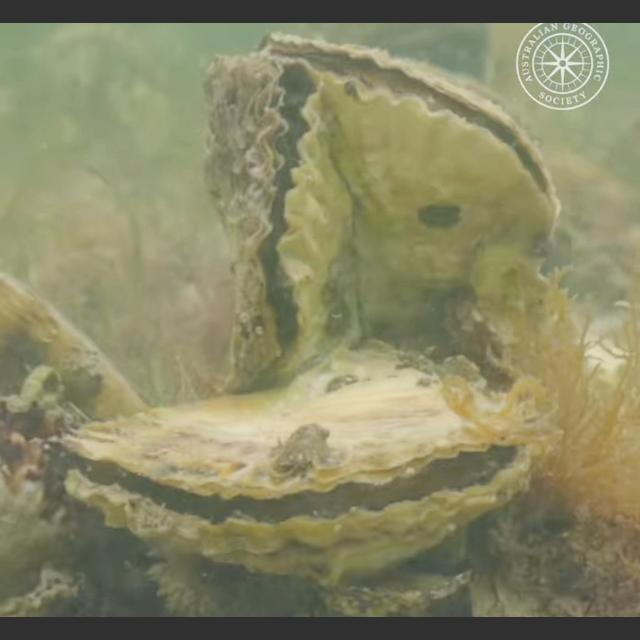Oyster-Closed: (0, 269, 150, 434)
Oyster-Open: (61, 337, 536, 587), (260, 28, 562, 350), (202, 51, 356, 397)
